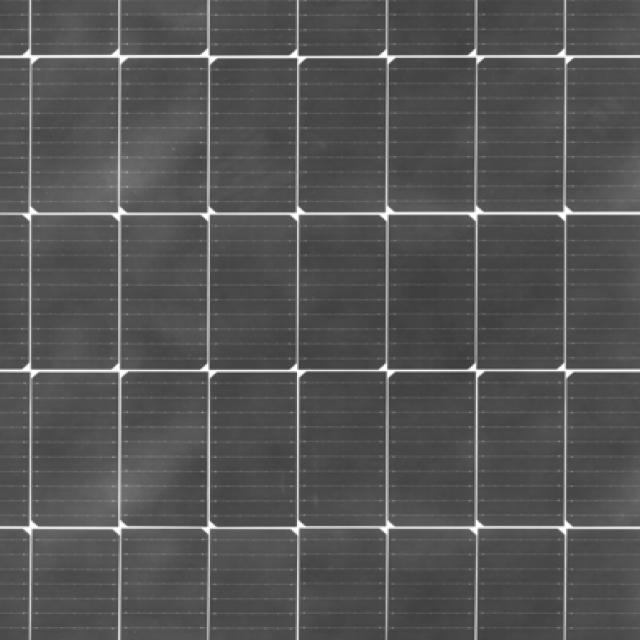CORRECT: (0, 0, 640, 640), (92, 55, 630, 589)
